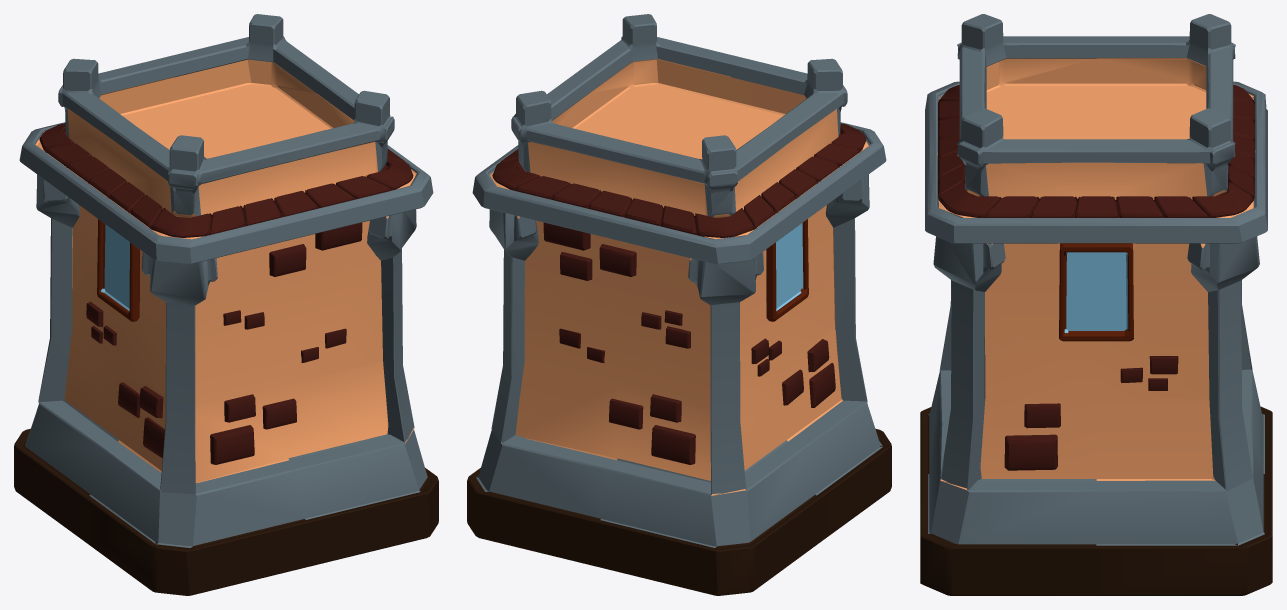
File: nisanc_3_seviye.fbx
3 renders of one model, left to right at view 1: azimuth 30°, elevation 25°; view 2: azimuth 150°, elevation 25°; view 3: azimuth 270°, elevation 25°, orthographic. The views are drawn at different scales.
Parts seen in each view (by area): view 1: Cube.003; view 2: Cube.003; view 3: Cube.003.
Part boxes in pixels (x1,y1,x2,y2): Cube.003: (14, 14, 438, 595); Cube.003: (467, 14, 891, 595); Cube.003: (920, 14, 1272, 595).
Size of the model in its own units: 329 by 469 by 329.
